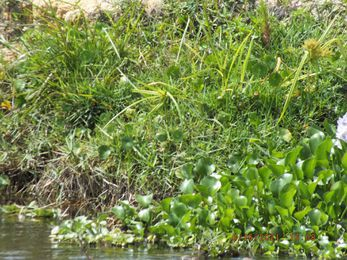water_hyacinth: (65, 135, 347, 250)
